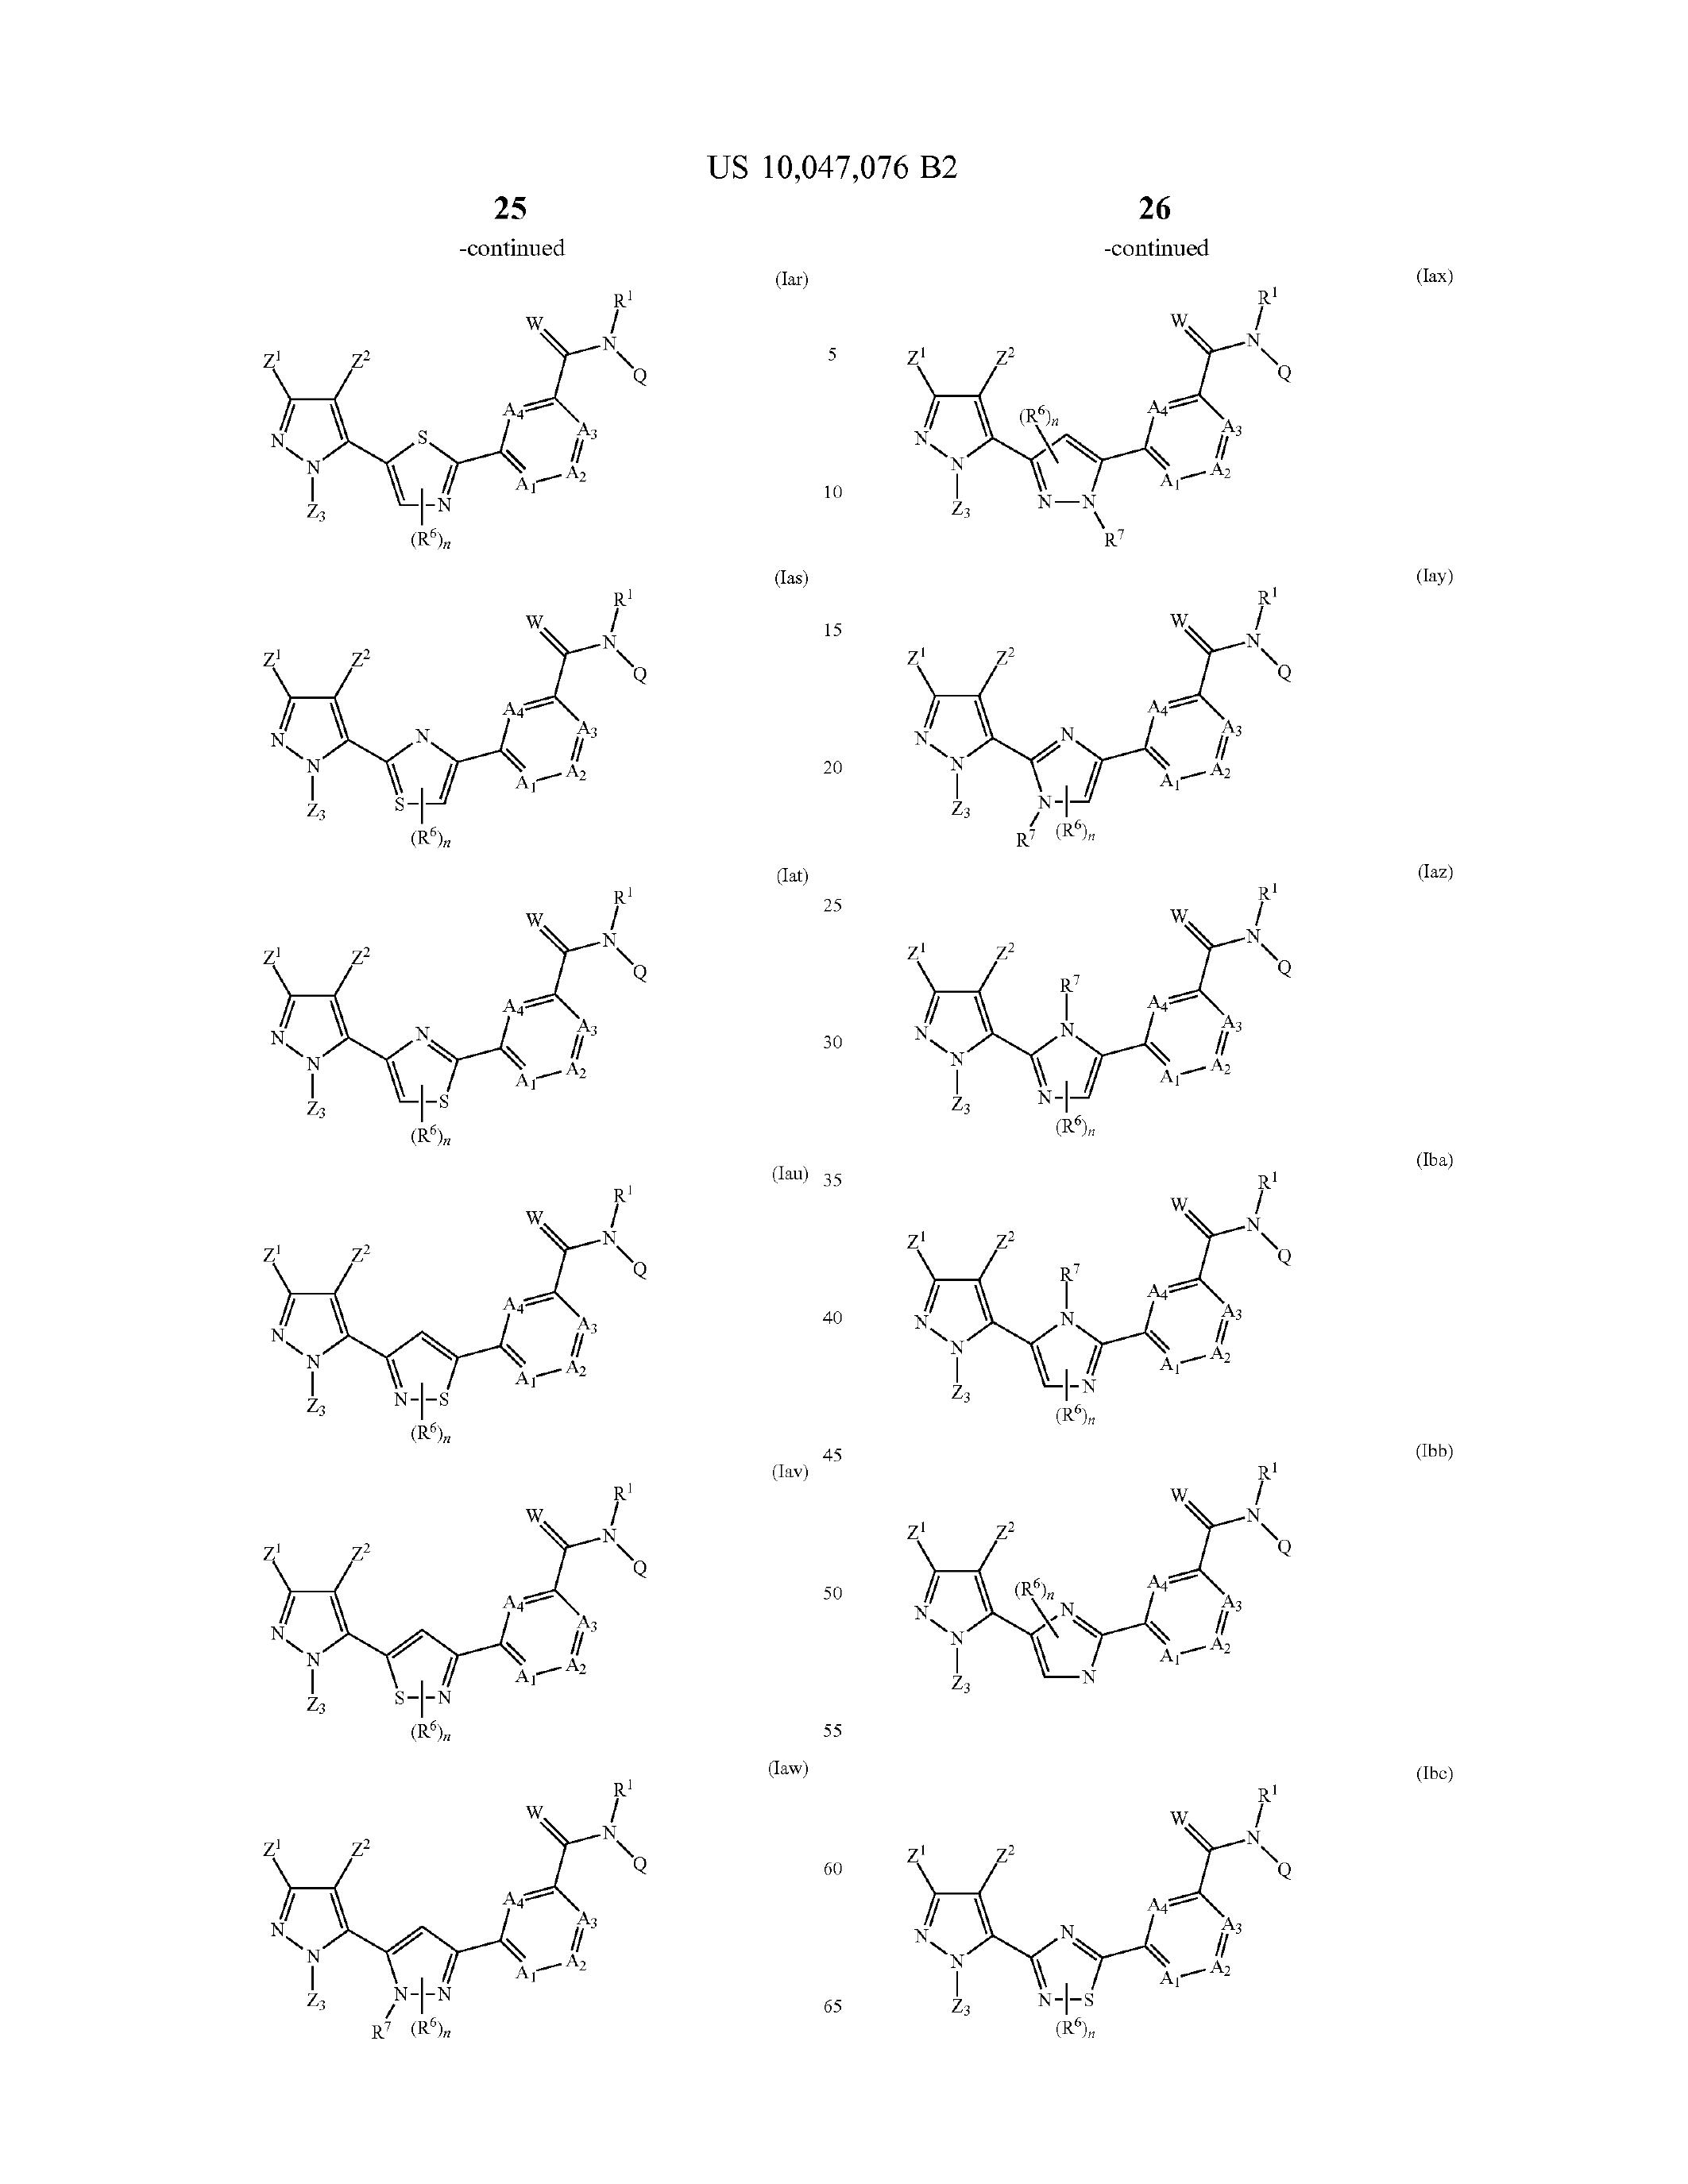relevant-structures: (206, 284, 718, 596), (881, 1751, 1337, 2071), (899, 280, 1372, 587), (856, 1152, 1349, 1436), (887, 1452, 1360, 1730), (225, 1767, 704, 2042), (202, 899, 720, 1145), (849, 608, 1397, 840), (888, 847, 1317, 1135), (222, 1477, 688, 1739), (238, 594, 718, 842), (229, 1195, 656, 1459)
